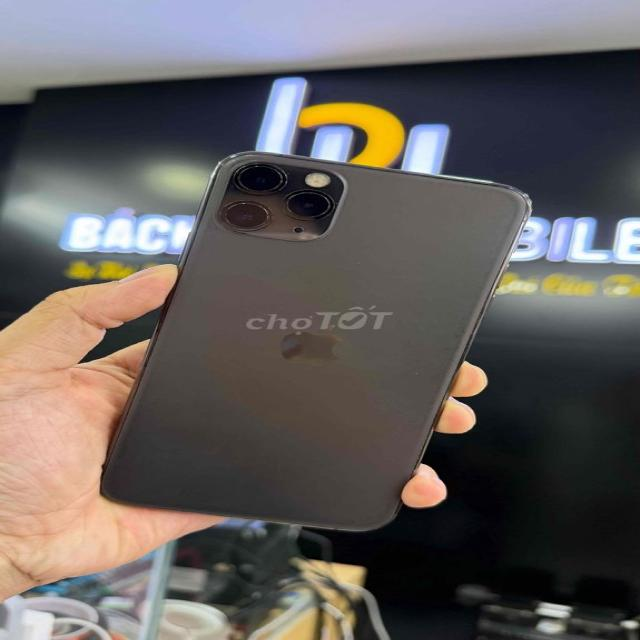gen_11: (96, 146, 538, 534)
